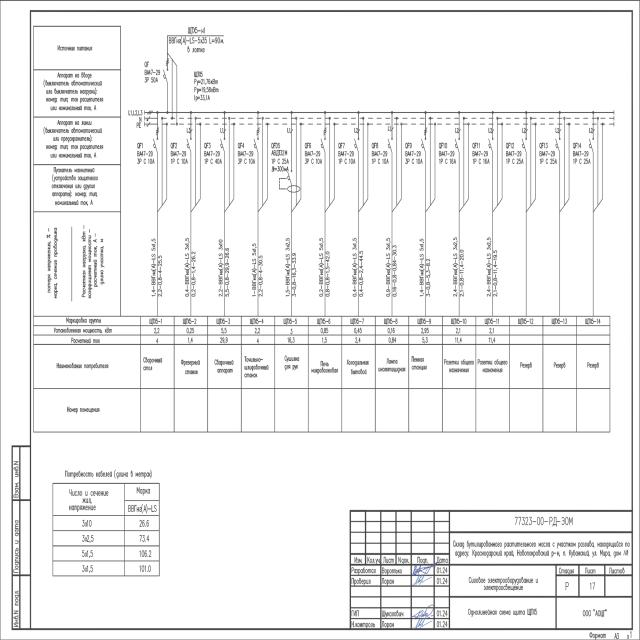-: (270, 148, 289, 172), (337, 149, 356, 165), (169, 150, 188, 165), (504, 150, 524, 164), (370, 150, 390, 164), (538, 150, 558, 164), (203, 150, 222, 164), (404, 150, 423, 164), (438, 150, 457, 164), (572, 150, 591, 164), (472, 150, 491, 164), (136, 150, 155, 164), (237, 150, 256, 164), (304, 150, 323, 164), (144, 69, 160, 83), (193, 69, 204, 79)
QF: (420, 136, 428, 153), (320, 134, 327, 152), (253, 135, 260, 152), (152, 134, 158, 152), (520, 135, 526, 153), (556, 136, 562, 154), (589, 135, 595, 153), (388, 136, 394, 154), (354, 135, 360, 153), (220, 136, 226, 154), (186, 136, 192, 154), (456, 136, 462, 154), (162, 66, 168, 83), (488, 135, 493, 153)
QFD: (278, 168, 300, 194)
